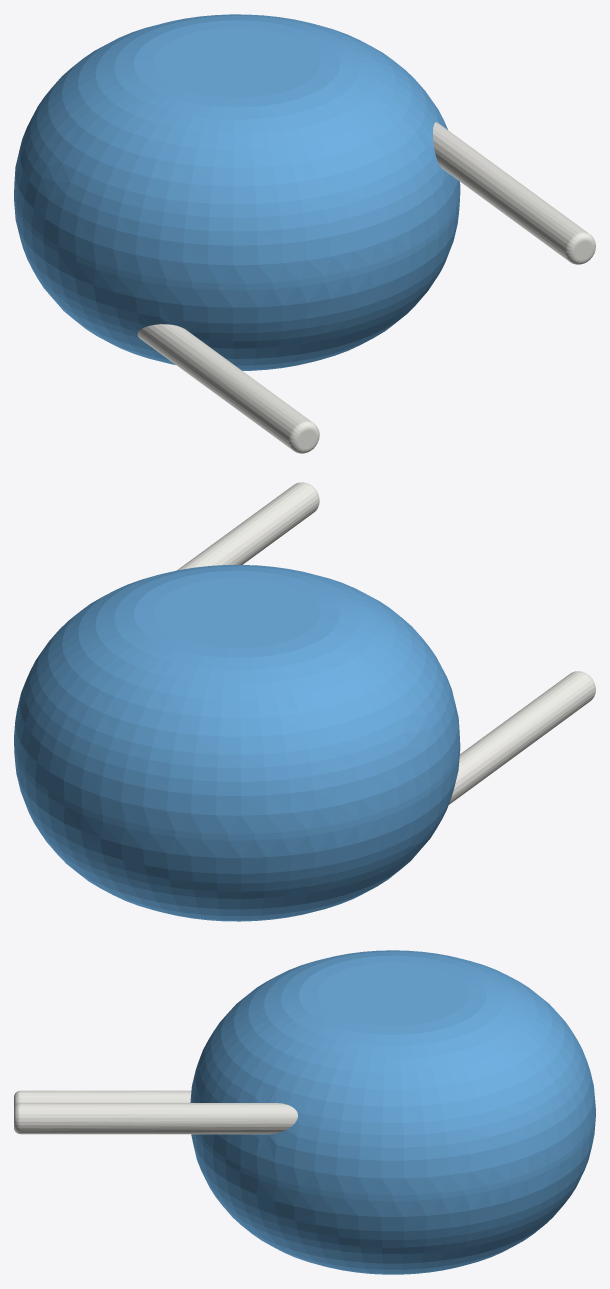
Rendered from RV_Disc_D7mm_W4.5mm_P5mm.glb.
3 views of the same model, one above another, from view 1: azimuth 30°, elevation 25°; view 2: azimuth 150°, elevation 25°; view 3: azimuth 270°, elevation 25° (orthographic). The views are drawn at different scales.
Parts seen in each view (by area): view 1: Shape_IndexedFaceSet.001, Shape_IndexedFaceSet.002, Shape_IndexedFaceSet.003, Shape_IndexedFaceSet.006, Shape_IndexedFaceSet.004, Shape_IndexedFaceSet; view 2: Shape_IndexedFaceSet.001, Shape_IndexedFaceSet.002, Shape_IndexedFaceSet.003, Shape_IndexedFaceSet.006, Shape_IndexedFaceSet.004, Shape_IndexedFaceSet; view 3: Shape_IndexedFaceSet.001, Shape_IndexedFaceSet.002, Shape_IndexedFaceSet.004, Shape_IndexedFaceSet.003, Shape_IndexedFaceSet, Shape_IndexedFaceSet.006.
Part boxes in pixels (left/top/right/bottom): Shape_IndexedFaceSet.001: left=14, top=14, right=460, bottom=283; Shape_IndexedFaceSet.002: left=14, top=200, right=459, bottom=370; Shape_IndexedFaceSet.003: left=154, top=27, right=320, bottom=97; Shape_IndexedFaceSet.006: left=137, top=324, right=312, bottom=449; Shape_IndexedFaceSet.004: left=433, top=122, right=588, bottom=260; Shape_IndexedFaceSet: left=14, top=189, right=460, bottom=290; Shape_IndexedFaceSet.001: left=14, top=565, right=460, bottom=834; Shape_IndexedFaceSet.002: left=14, top=750, right=460, bottom=921; Shape_IndexedFaceSet.003: left=154, top=578, right=319, bottom=648; Shape_IndexedFaceSet.006: left=449, top=671, right=594, bottom=804; Shape_IndexedFaceSet.004: left=177, top=482, right=318, bottom=570; Shape_IndexedFaceSet: left=14, top=740, right=460, bottom=840; Shape_IndexedFaceSet.001: left=190, top=950, right=595, bottom=1195; Shape_IndexedFaceSet.002: left=191, top=1117, right=595, bottom=1274; Shape_IndexedFaceSet.004: left=20, top=1103, right=297, bottom=1134; Shape_IndexedFaceSet.003: left=317, top=962, right=468, bottom=1026; Shape_IndexedFaceSet: left=195, top=1111, right=595, bottom=1201; Shape_IndexedFaceSet.006: left=20, top=1090, right=191, bottom=1102.
Size of the model in its own units: 2.76 by 1.77 by 3.95.
